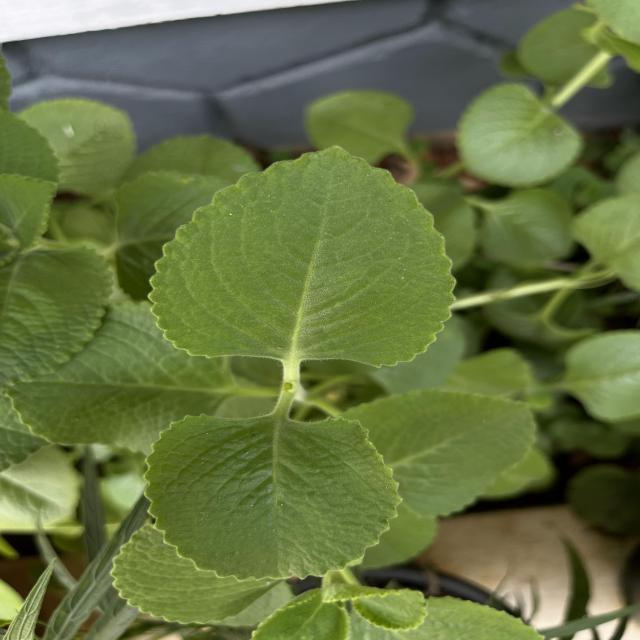Plectranthus barbatus: (144, 142, 458, 370), (142, 414, 407, 584), (3, 297, 238, 452), (342, 386, 540, 520), (452, 78, 584, 190), (300, 89, 418, 164)
